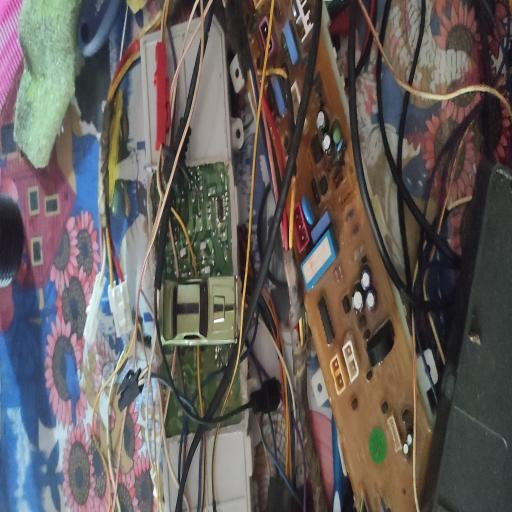Carrito: (159, 276, 237, 347)
